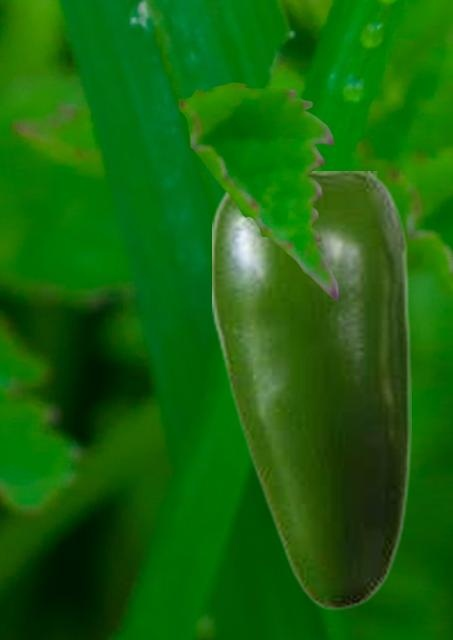green_chili: (212, 171, 410, 610)
